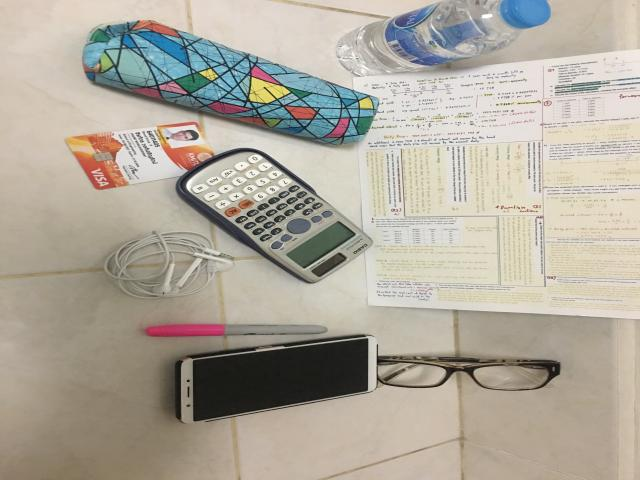Glasses: (377, 356, 560, 391)
Mobile phone: (175, 335, 377, 423)
Pen: (145, 324, 328, 337)
bottle: (337, 0, 550, 76)
paper: (355, 51, 638, 319)
wire: (103, 231, 233, 298)
